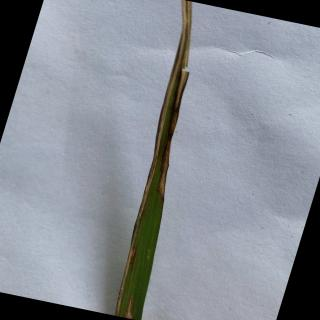Hawar-Daun: (131, 0, 193, 227), (114, 229, 139, 315), (125, 289, 135, 319)
